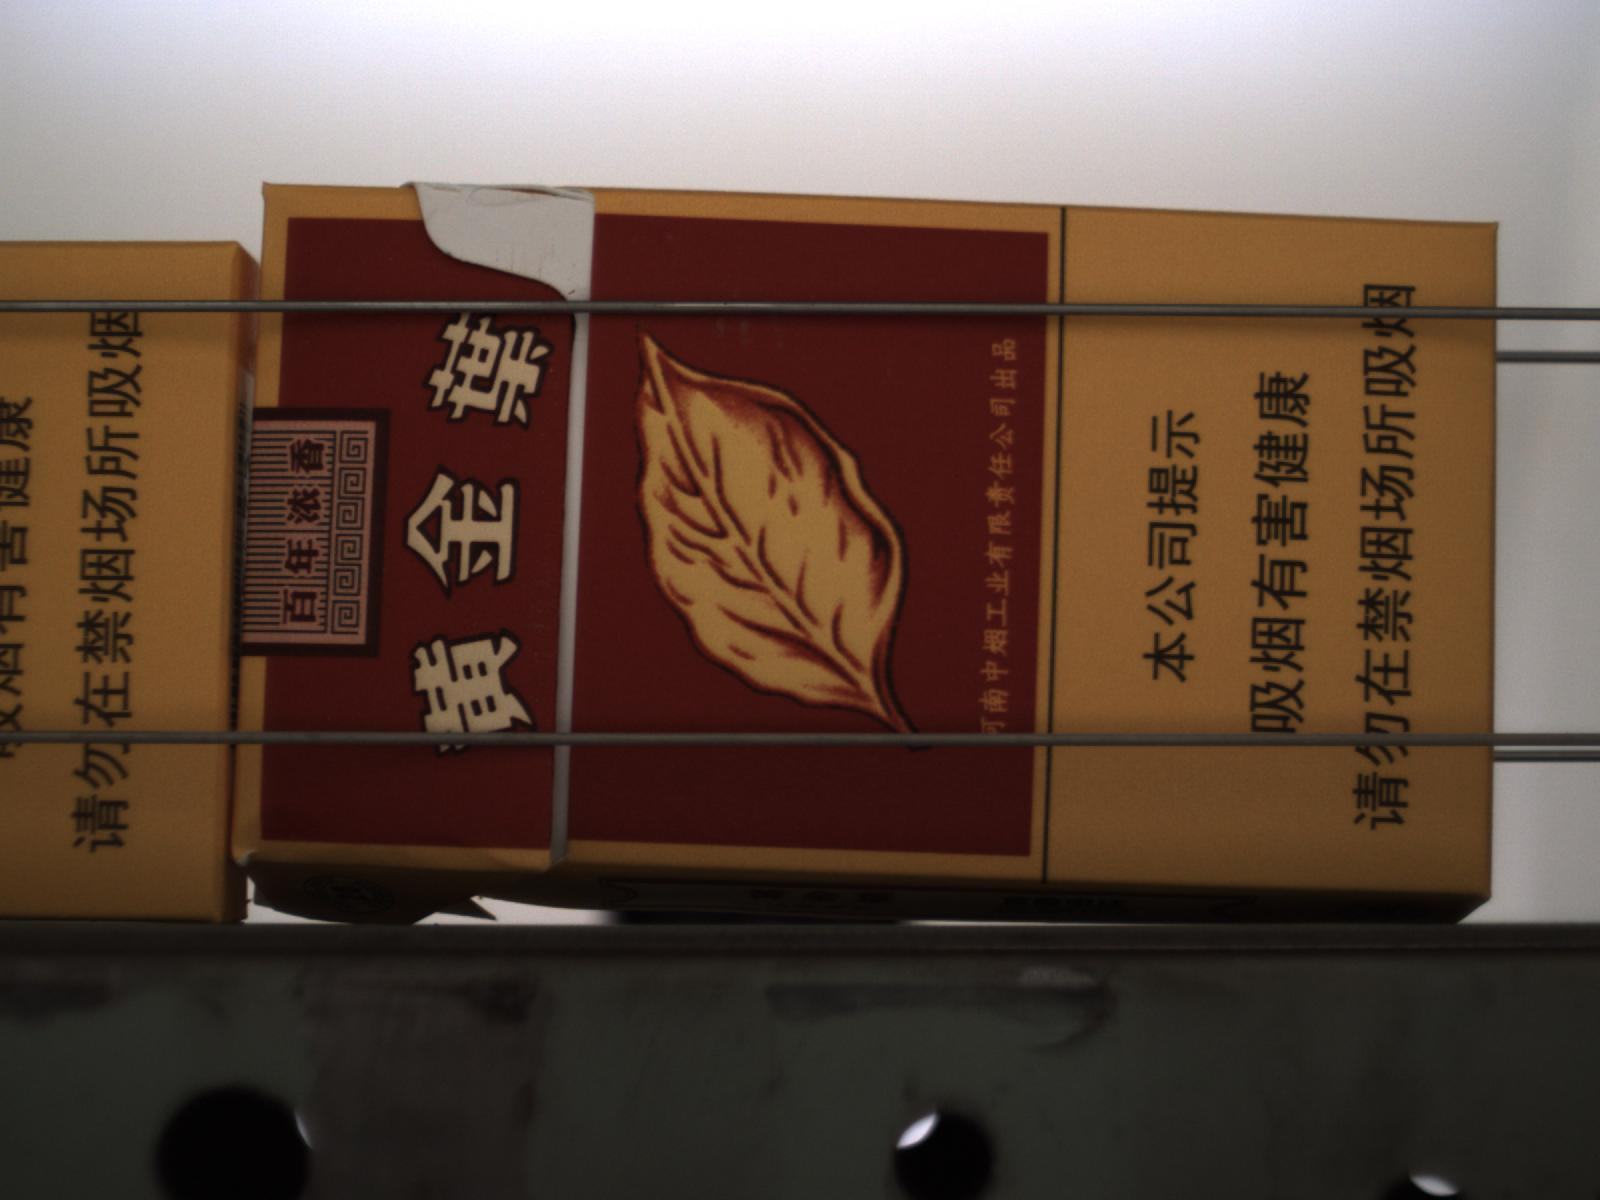areaOil: (470, 863, 1490, 924)
dirtyPrint: (386, 255, 396, 263)
frame: (236, 862, 546, 925)
skewed_upper_2: (402, 180, 596, 299)
